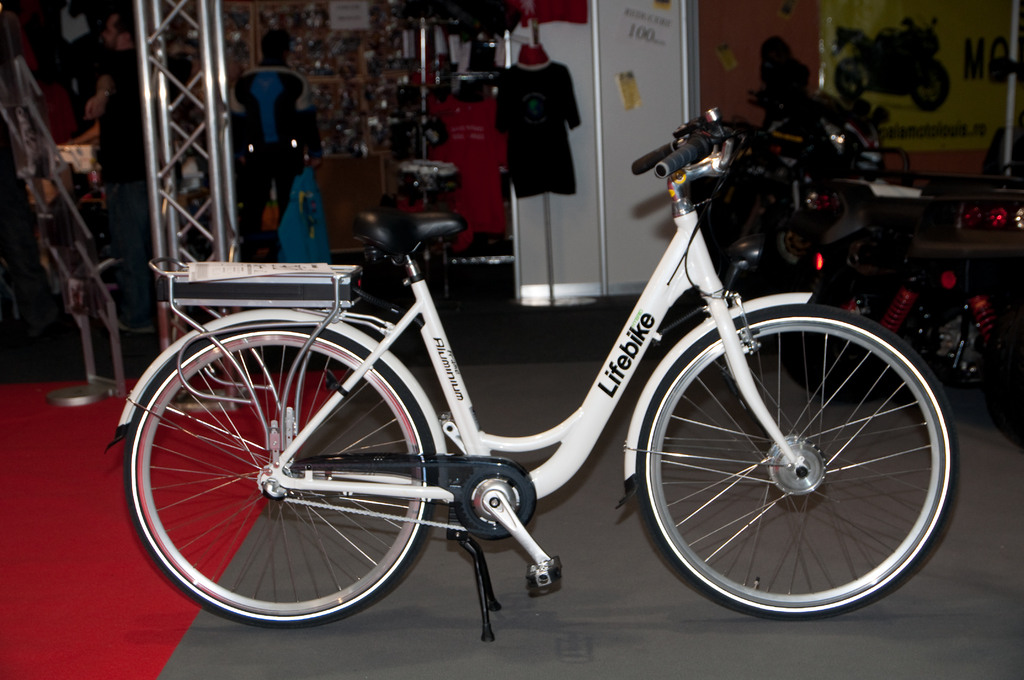Bike: (120, 118, 938, 586)
